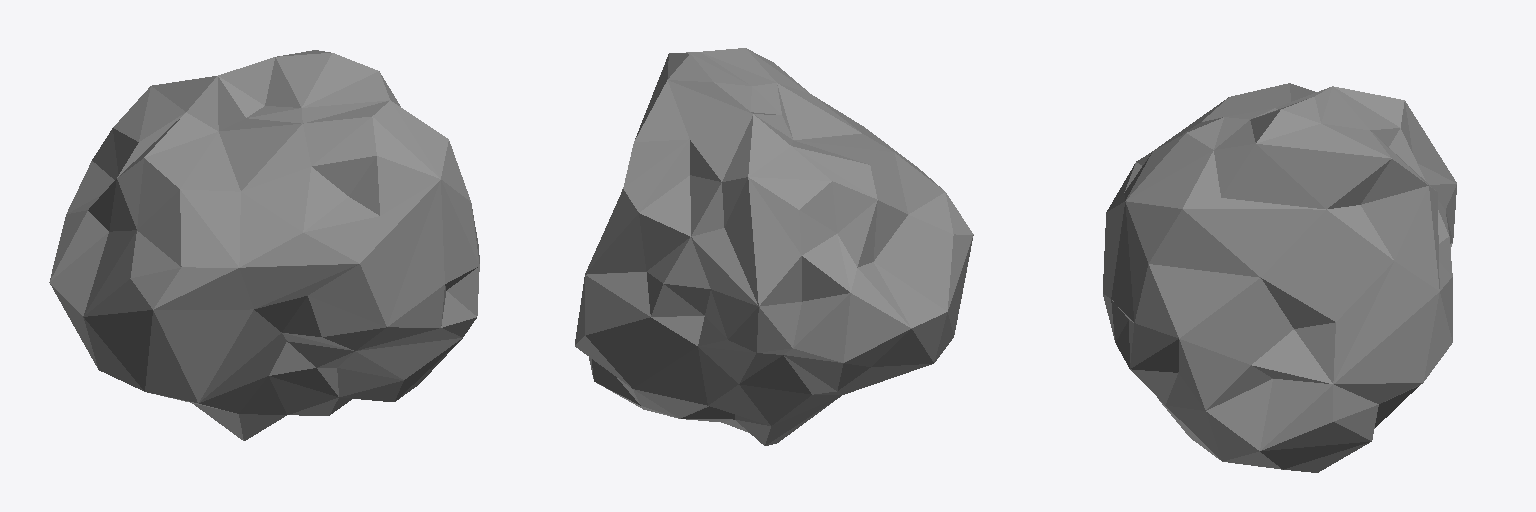
Rendered from Asteroid_8.obj.
The picture shows the model from 3 angles: view 1: azimuth 30°, elevation 25°; view 2: azimuth 150°, elevation 25°; view 3: azimuth 270°, elevation 25°; orthographic projection.
Parts seen in each view (by area): view 1: Asteroid_8; view 2: Asteroid_8; view 3: Asteroid_8.
Part boxes in pixels (x1,y1,x2,y2): Asteroid_8: (49, 50, 479, 440); Asteroid_8: (575, 48, 973, 445); Asteroid_8: (1103, 83, 1456, 472).
Bounding box in the file's own units: 70.03 × 69.91 × 61.04.